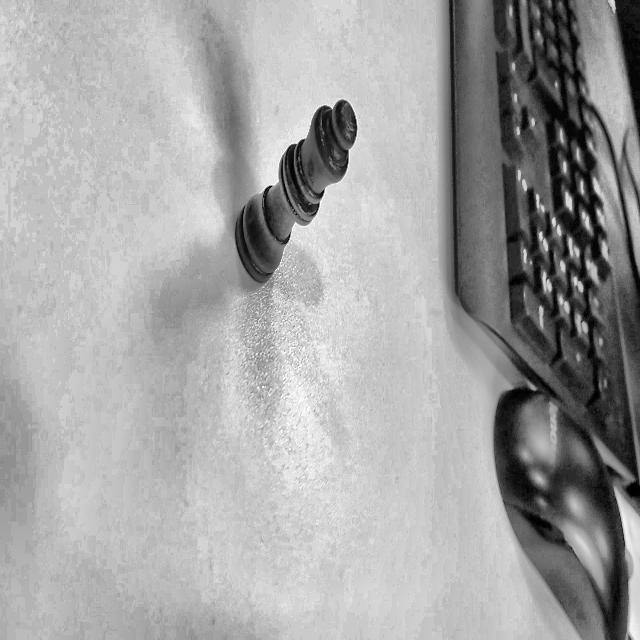black-queen: (229, 95, 362, 294)
